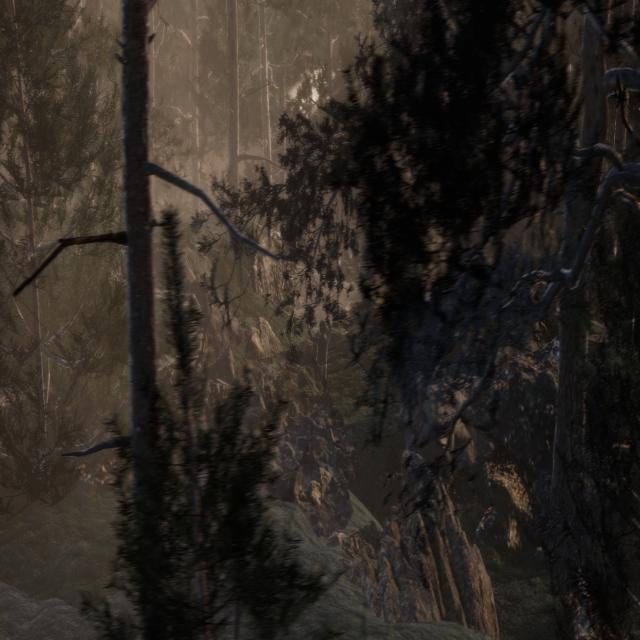Human: (301, 305, 337, 388)
